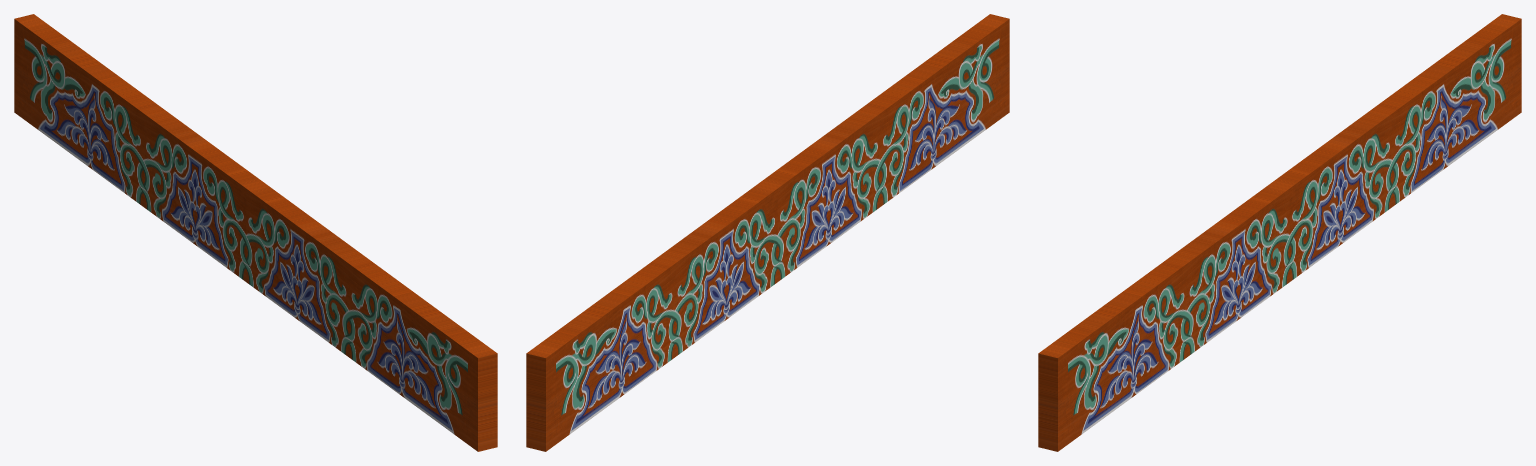
Rendered from SM_Hwaban05A.fbx.
The picture shows the model from 3 angles, left to right: view 1: azimuth 30°, elevation 25°; view 2: azimuth 150°, elevation 25°; view 3: azimuth 330°, elevation 25°; orthographic projection.
Parts seen in each view (by area): view 1: SM_Hwaban05A; view 2: SM_Hwaban05A; view 3: SM_Hwaban05A.
Part boxes in pixels (x1,y1,x2,y2): SM_Hwaban05A: [14, 14, 497, 451]; SM_Hwaban05A: [526, 14, 1009, 451]; SM_Hwaban05A: [1038, 14, 1521, 451].
Bounding box in the file's own units: 6.75 × 278 × 30.98.
